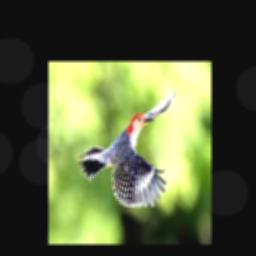Woodpecker: (78, 87, 176, 207)
